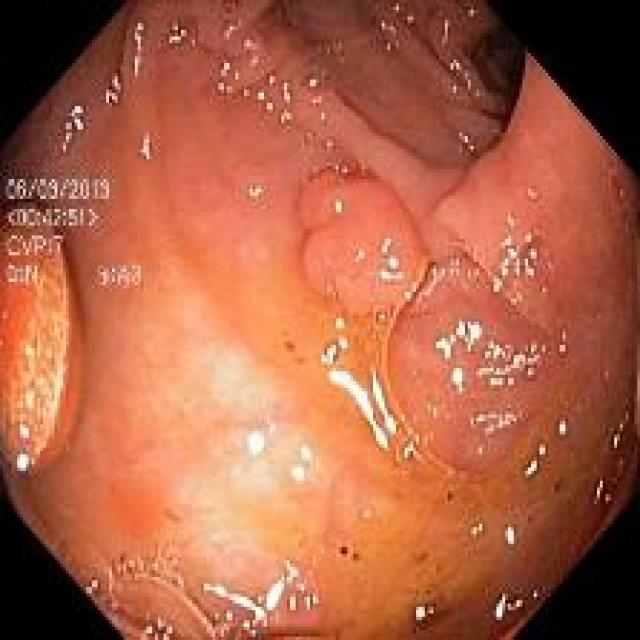Polyps: (299, 174, 429, 315)
